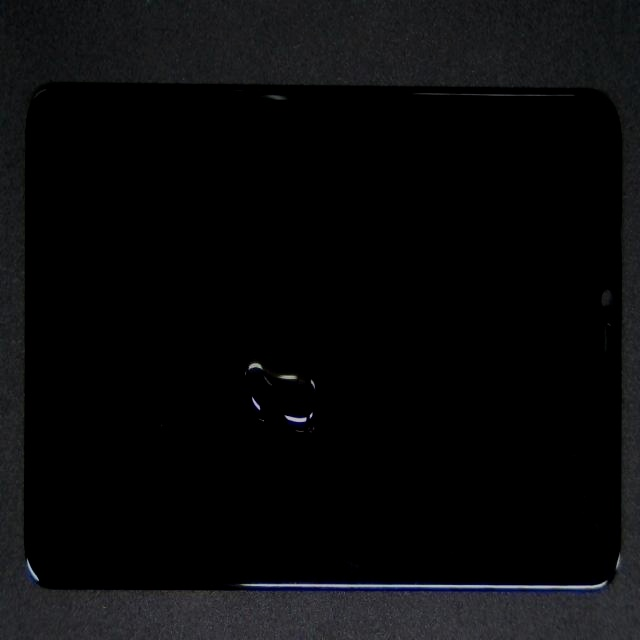oil: (165, 244, 491, 637)
